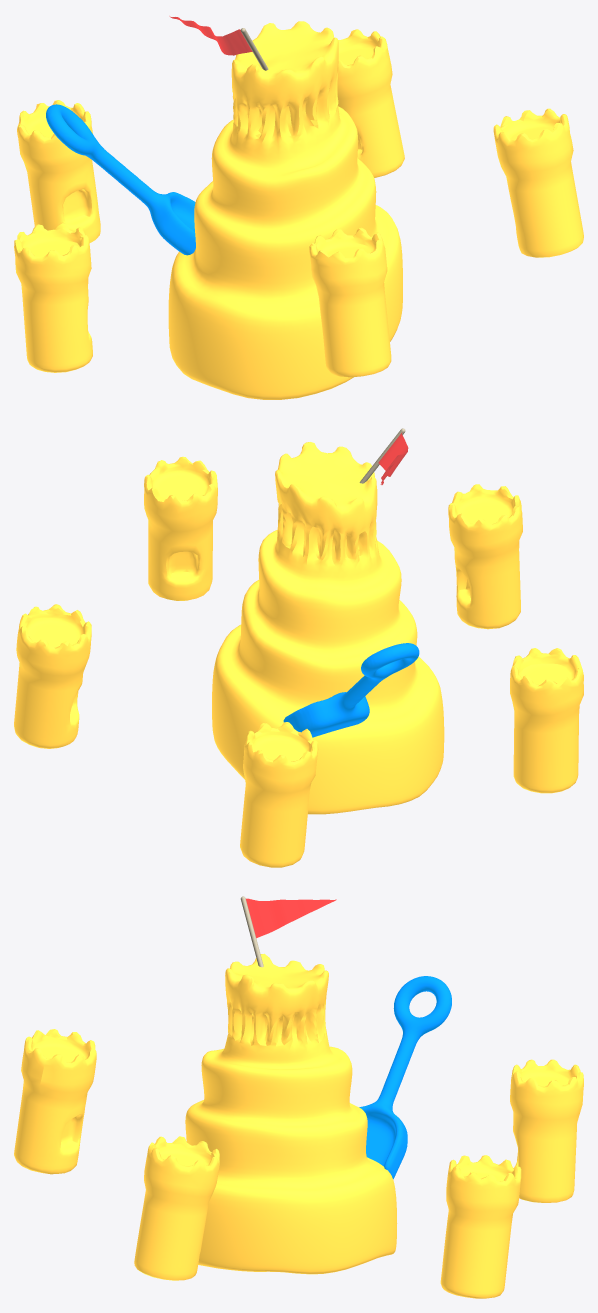
Rendered from sandcastle.glb.
3 renders of one model, top to bottom at view 1: azimuth 30°, elevation 25°; view 2: azimuth 150°, elevation 25°; view 3: azimuth 270°, elevation 25°, orthographic. The views are drawn at different scales.
Visible parts, largest first — view 1: SANDCASTLE, SHOVEL, FLAG; view 2: SANDCASTLE, SHOVEL, FLAG; view 3: SANDCASTLE, SHOVEL, FLAG.
Boxes of the visible parts, x1,y1,x2,y2 form: SANDCASTLE: [14, 21, 583, 399]; SHOVEL: [46, 104, 195, 255]; FLAG: [169, 16, 268, 70]; SANDCASTLE: [14, 442, 583, 867]; SHOVEL: [283, 643, 419, 737]; FLAG: [359, 428, 408, 484]; SANDCASTLE: [14, 953, 583, 1298]; SHOVEL: [359, 976, 451, 1179]; FLAG: [240, 896, 336, 967].
Size of the model in its own units: 575 by 388 by 586.
